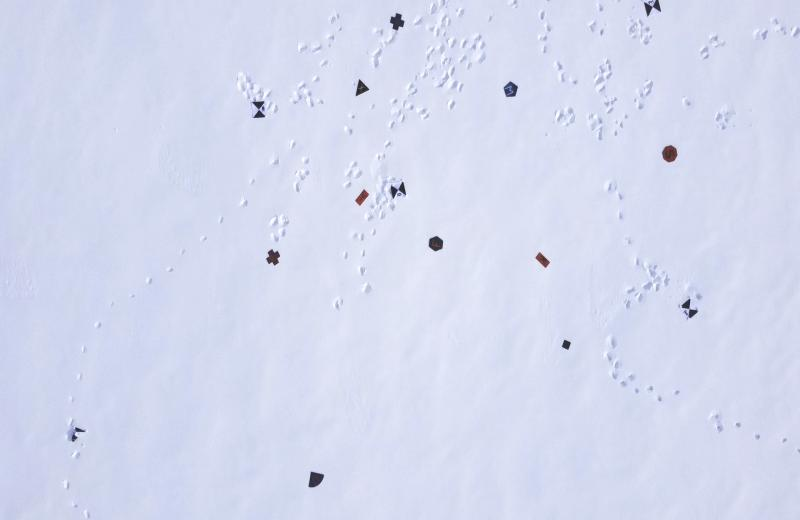Cross: (264, 248, 282, 268), (389, 11, 405, 32)
Hexagon: (428, 235, 446, 253)
Octagon: (662, 145, 679, 163)
Pentagon: (503, 80, 519, 99)
Quarter Circle: (305, 470, 326, 490)
Rectangle: (354, 186, 372, 207), (534, 251, 551, 270)
Square: (561, 338, 572, 352)
Triangle: (352, 79, 371, 98)
